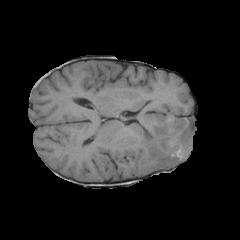glioma: (138, 112, 196, 168)
